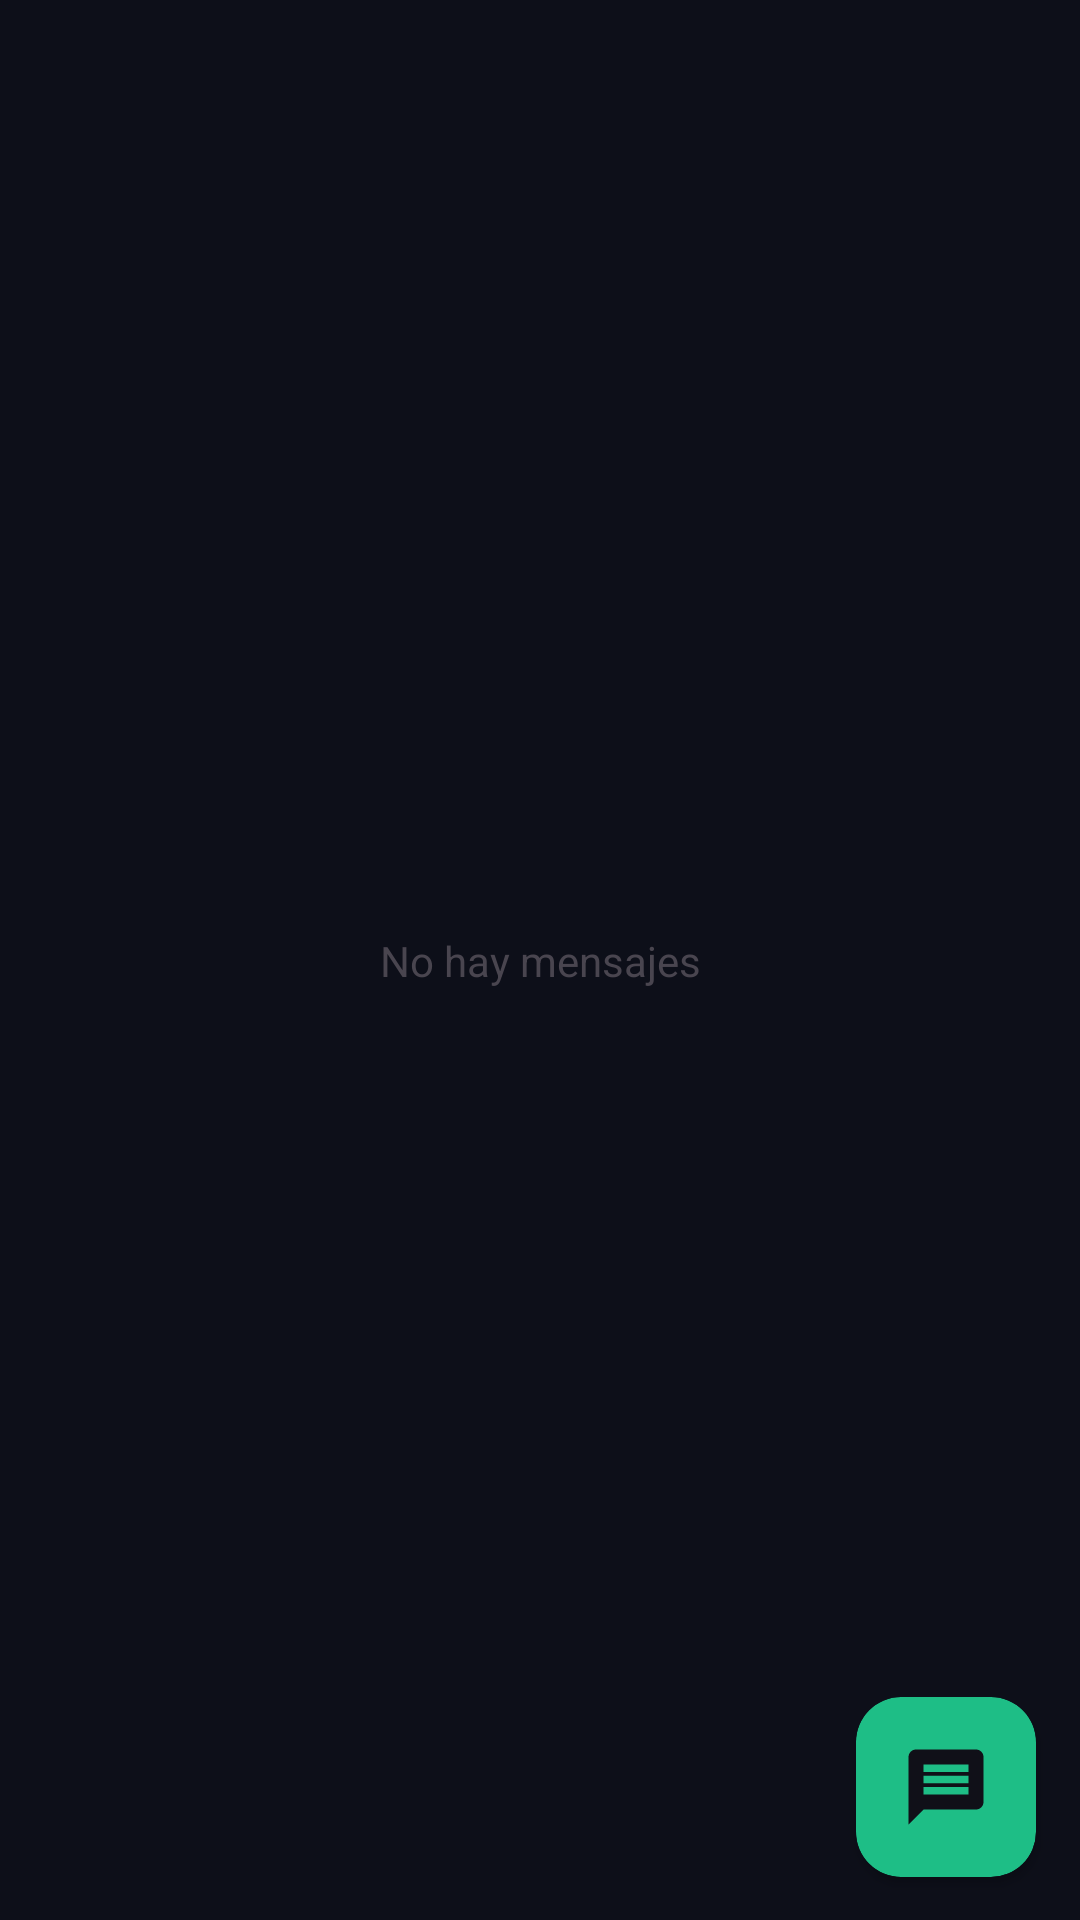

Icons on this 1080×1920 Android screen, each with its box as [x1=x1, y1=y1, x2=x2, y2=y2]:
message: [x1=908, y1=1749, x2=984, y2=1825]
